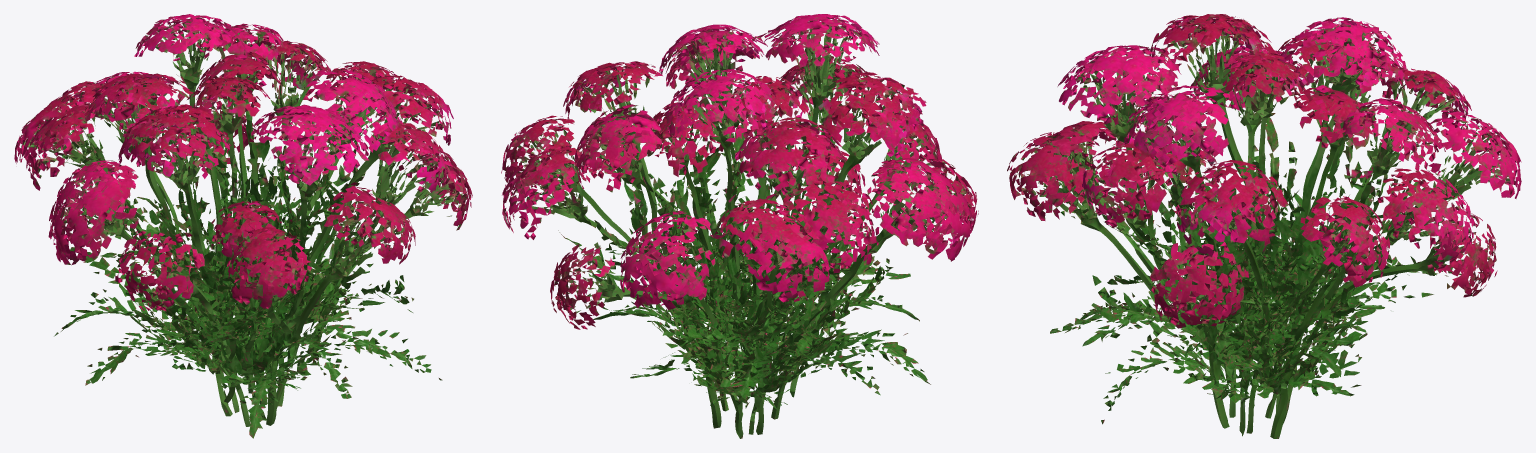
File: Meshy_AI_me_puedes_poner_estas_0926234202_texture.fbx
3 views of the same model, side by side, from view 1: azimuth 30°, elevation 25°; view 2: azimuth 150°, elevation 25°; view 3: azimuth 270°, elevation 25° (orthographic). The views are drawn at different scales.
Parts seen in each view (by area): view 1: output; view 2: output; view 3: output.
Boxes of the visible parts, x1,y1,x2,y2 form: output: (14, 14, 472, 438); output: (501, 14, 978, 438); output: (1007, 14, 1521, 438).
Size of the model in its own units: 178 by 160 by 189.
Materials: 1 (1 with a texture image).
